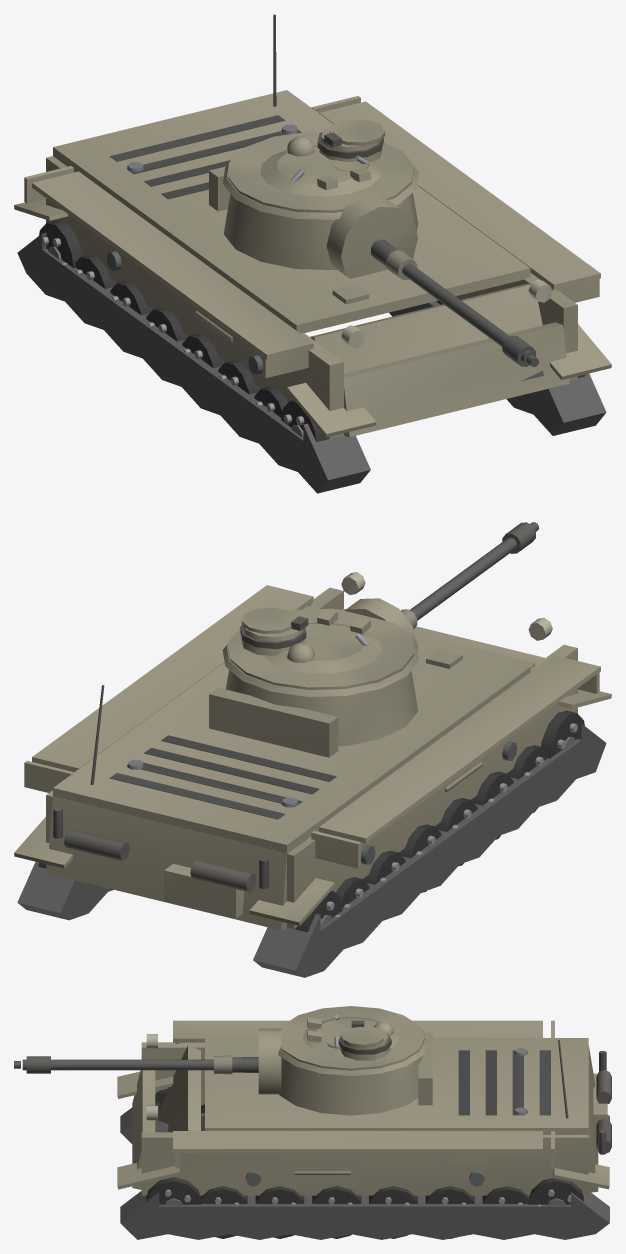
Rendered from stb1.glb.
The picture shows the model from 3 angles, top to bottom: view 1: azimuth 30°, elevation 25°; view 2: azimuth 150°, elevation 25°; view 3: azimuth 270°, elevation 25°; orthographic projection. The views are drawn at different scales.
Visible parts, largest first — view 1: hullSide, hullTop, tracks, lowerPlate, turretRoof, glacis, turretFront, mantlet, barrel, turretSide, wheel7, wheel6 (+6 smaller); view 2: hullTop, hullSide, tracks, hullRear, turretRoof, turretFront, turretRear, barrel, turretSide, wheel6, glacis, mantlet (+8 smaller); view 3: hullSide, hullTop, tracks, turretRoof, turretFront, barrel, hullRear, glacis, lowerPlate, mantlet, wheel14, wheel15 (+8 smaller).
Part boxes in pixels (x1=…): hullSide: x1=24, y1=96, x2=600, y2=438; hullTop: x1=53, y1=90, x2=530, y2=333; tracks: x1=14, y1=199, x2=611, y2=493; lowerPlate: x1=344, y1=322, x2=569, y2=436; turretRoof: x1=227, y1=119, x2=414, y2=212; glacis: x1=310, y1=284, x2=543, y2=380; turretFront: x1=223, y1=192, x2=418, y2=269; mantlet: x1=326, y1=196, x2=417, y2=278; barrel: x1=371, y1=239, x2=538, y2=367; turretSide: x1=222, y1=163, x2=418, y2=219; wheel7: x1=39, y1=220, x2=82, y2=268; wheel6: x1=281, y1=400, x2=329, y2=441; hullTop: x1=53, y1=639, x2=530, y2=853; hullSide: x1=24, y1=572, x2=600, y2=928; tracks: x1=14, y1=689, x2=611, y2=977; hullRear: x1=47, y1=685, x2=286, y2=930; turretRoof: x1=227, y1=607, x2=414, y2=689; turretFront: x1=225, y1=670, x2=418, y2=746; turretRear: x1=209, y1=687, x2=338, y2=757; barrel: x1=401, y1=522, x2=538, y2=628; turretSide: x1=222, y1=640, x2=418, y2=696; wheel6: x1=541, y1=710, x2=584, y2=758; glacis: x1=415, y1=634, x2=534, y2=668; mantlet: x1=344, y1=598, x2=417, y2=649; hullSide: x1=141, y1=1020, x2=588, y2=1195; hullTop: x1=205, y1=1038, x2=588, y2=1134; tracks: x1=117, y1=1071, x2=609, y2=1239; turretRoof: x1=280, y1=1006, x2=424, y2=1070; turretFront: x1=279, y1=1055, x2=423, y2=1115; barrel: x1=14, y1=1055, x2=258, y2=1074; hullRear: x1=558, y1=1039, x2=611, y2=1192; glacis: x1=134, y1=1045, x2=240, y2=1162; lowerPlate: x1=132, y1=1070, x2=155, y2=1189; mantlet: x1=258, y1=1028, x2=281, y2=1094; wheel14: x1=146, y1=1177, x2=201, y2=1205; wheel15: x1=528, y1=1178, x2=583, y2=1206.
Size of the model in its own units: 4.28 by 2.82 by 8.43.
